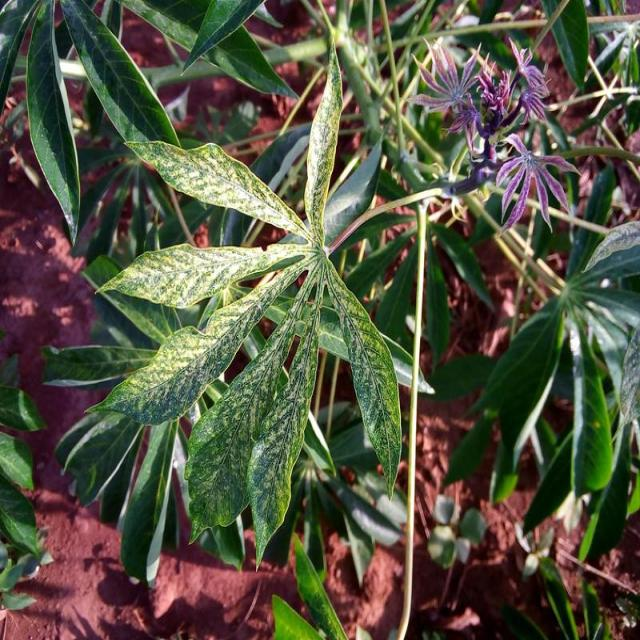cassava leaf: (84, 38, 418, 573)
